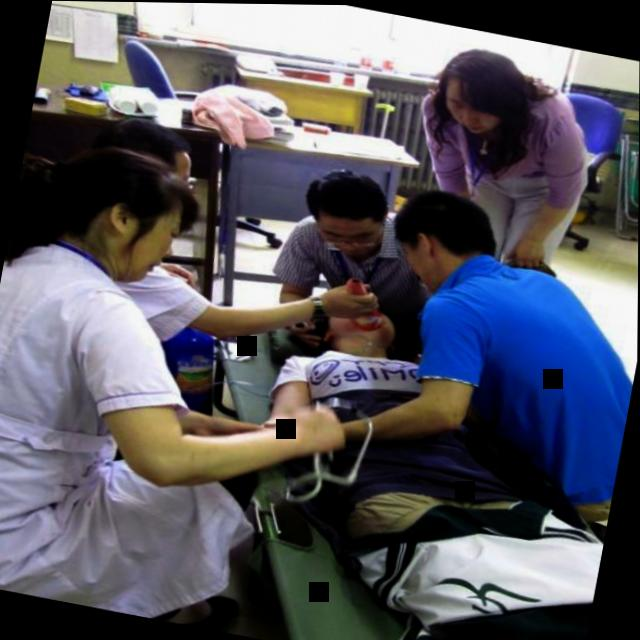Fall-Detected: (221, 265, 638, 640)
